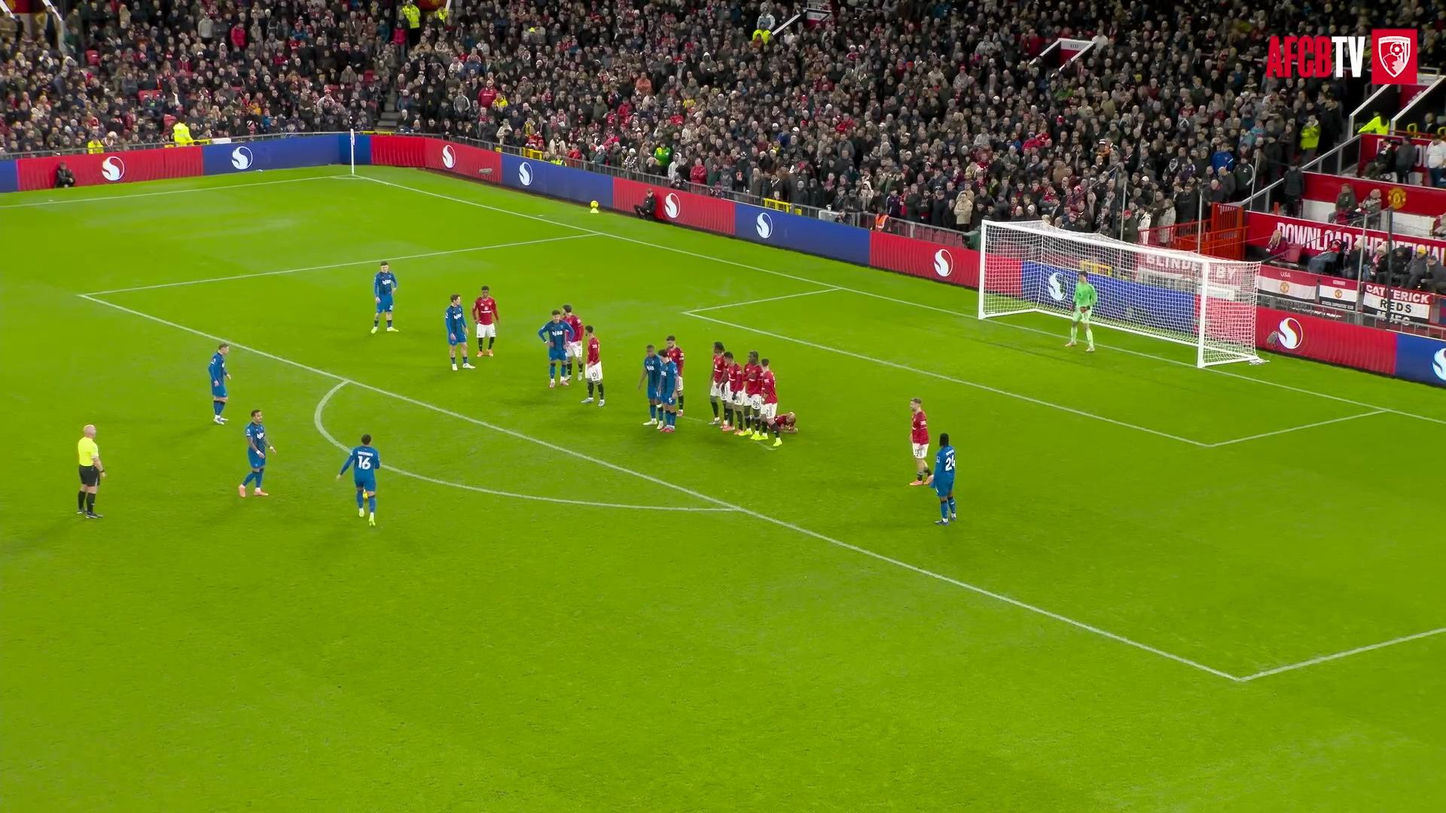player: (337, 434, 380, 525), (239, 410, 275, 497), (538, 310, 574, 388), (752, 358, 782, 446), (1066, 270, 1097, 352), (444, 294, 474, 370), (932, 433, 956, 525), (735, 352, 761, 436), (637, 344, 663, 425), (721, 352, 746, 431), (910, 397, 932, 486), (581, 325, 605, 406), (371, 261, 398, 333), (472, 285, 498, 358), (657, 354, 680, 432), (208, 343, 230, 424), (662, 335, 684, 414), (709, 341, 727, 425), (563, 305, 583, 380), (772, 412, 796, 433)
referee: (77, 425, 105, 518)
